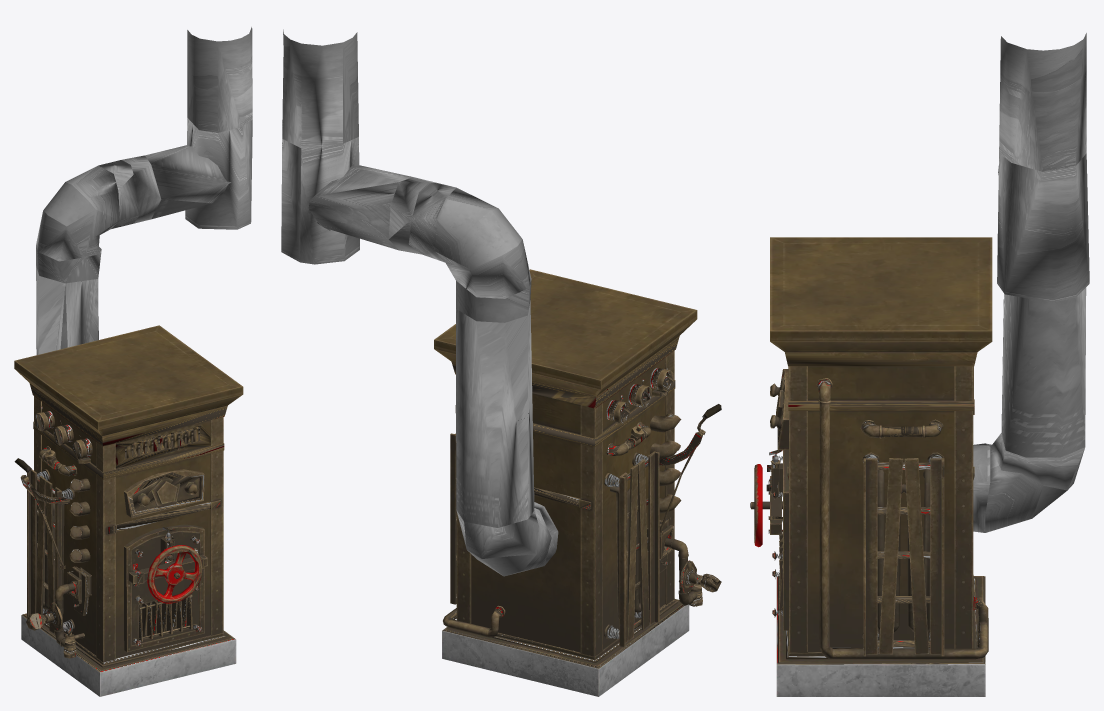
File: vintage_boiler.glb
The picture shows the model from 3 angles, left to right: view 1: azimuth 30°, elevation 25°; view 2: azimuth 150°, elevation 25°; view 3: azimuth 270°, elevation 25°; orthographic projection. The views are drawn at different scales.
Parts seen in each view (by area): view 1: Body, Exhaust, Wheel; view 2: Body, Exhaust; view 3: Body, Exhaust, Wheel.
Boxes of the visible parts, bbox=[...] form: Body: bbox=[14, 325, 243, 696]; Exhaust: bbox=[36, 27, 252, 354]; Wheel: bbox=[147, 545, 202, 603]; Body: bbox=[434, 269, 721, 696]; Exhaust: bbox=[281, 29, 558, 576]; Body: bbox=[766, 237, 992, 696]; Exhaust: bbox=[973, 33, 1089, 532]; Wheel: bbox=[750, 464, 782, 547].
Size of the model in its own units: 2.28 by 3.93 by 1.68.
3 materials, 3 textured.
